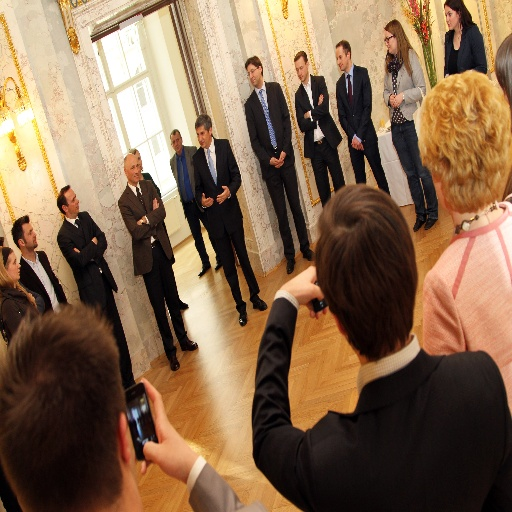hand: (118, 378, 196, 497), (282, 265, 330, 322), (215, 183, 230, 206), (200, 191, 214, 209), (392, 94, 404, 109), (350, 137, 360, 151), (152, 195, 160, 210), (274, 158, 284, 170), (317, 93, 324, 104), (389, 94, 395, 106), (276, 155, 283, 165), (303, 113, 307, 119)
